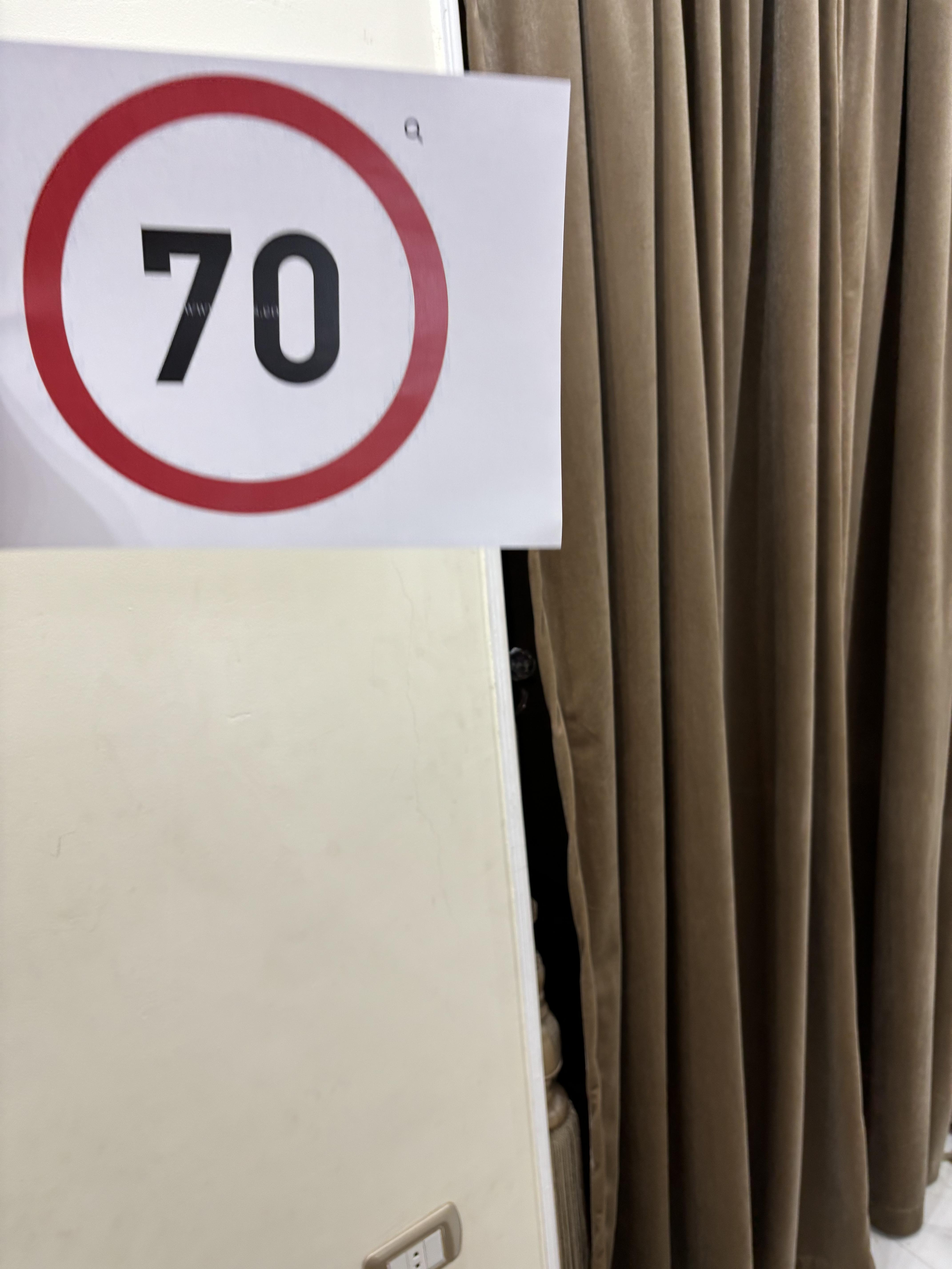70-Speed: (29, 60, 463, 516)
